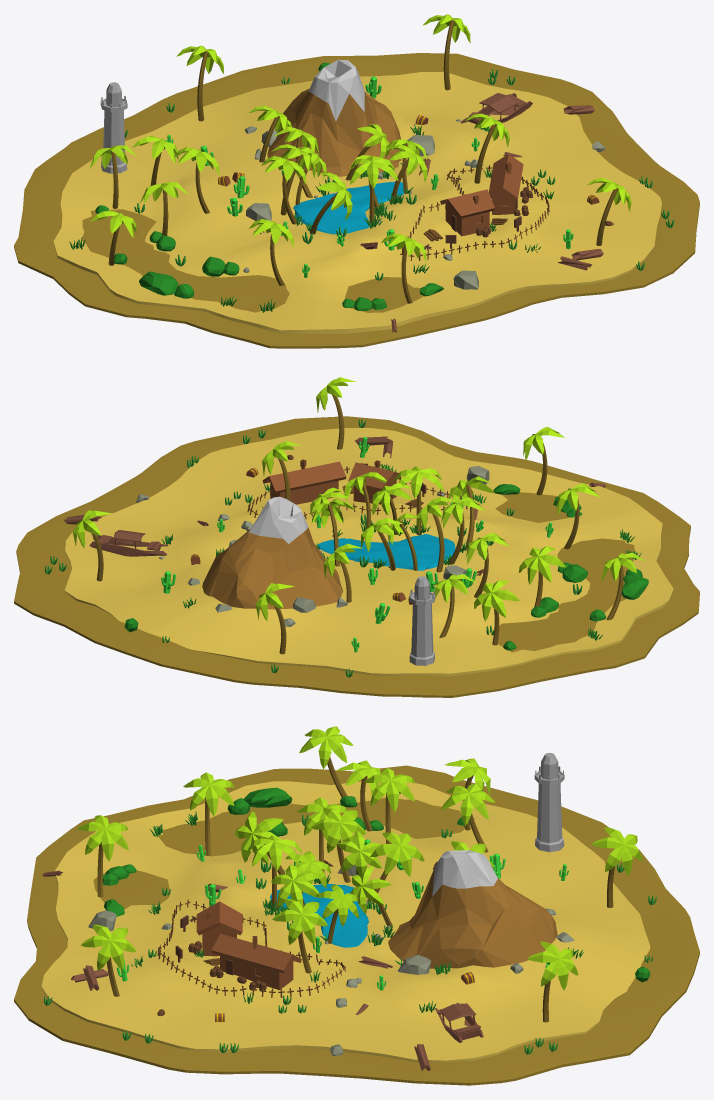
The picture shows the model from 3 angles, top to bottom: view 1: azimuth 30°, elevation 25°; view 2: azimuth 150°, elevation 25°; view 3: azimuth 270°, elevation 25°; orthographic projection. The views are drawn at different scales.
Visible parts, largest first — view 1: Ashamo, Ashamo1, ApCylinder73, ApCube85, ApCube206, ApCube207, ApPlane2, ApCube172, ApSphere5, ApCube210, ApCylinder75, AMASH3_ReproMesh1 (+3 smaller); view 2: Ashamo, Ashamo1, ApCylinder73, ApCube85, ApCube206, ApPlane2, ApCube207, ApCube172, ApCylinder75, AdeletepolySurface3, ApCube209, ApCube210 (+4 smaller); view 3: Ashamo, Ashamo1, ApCylinder73, ApCube85, ApCube206, ApCube207, ApCube172, ApPlane2, ApCube210, ApSphere5, ApCube209, ApCylinder75 (+3 smaller).
Part boxes in pixels (bbox=[...]): Ashamo: bbox=[53, 72, 661, 333]; Ashamo1: bbox=[14, 53, 699, 348]; ApCylinder73: bbox=[89, 14, 631, 303]; ApCube85: bbox=[267, 59, 401, 176]; ApCube206: bbox=[440, 154, 523, 236]; ApCube207: bbox=[95, 62, 443, 310]; ApPlane2: bbox=[293, 181, 404, 234]; ApCube172: bbox=[100, 82, 127, 173]; ApSphere5: bbox=[243, 119, 605, 289]; ApCube210: bbox=[69, 123, 554, 312]; ApCylinder75: bbox=[165, 76, 573, 277]; AMASH3_ReproMesh1: bbox=[400, 165, 549, 260]; Ashamo: bbox=[64, 428, 673, 676]; Ashamo1: bbox=[14, 416, 699, 697]; ApCylinder73: bbox=[72, 377, 645, 654]; ApCube85: bbox=[202, 496, 343, 609]; ApCube206: bbox=[262, 459, 400, 504]; ApPlane2: bbox=[317, 534, 455, 570]; ApCube207: bbox=[124, 484, 648, 650]; ApCube172: bbox=[409, 576, 435, 665]; ApCylinder75: bbox=[161, 437, 553, 652]; AdeletepolySurface3: bbox=[89, 530, 168, 556]; ApCube209: bbox=[45, 419, 582, 677]; ApCube210: bbox=[161, 463, 641, 640]; Ashamo: bbox=[41, 781, 650, 1062]; Ashamo1: bbox=[14, 765, 699, 1085]; ApCylinder73: bbox=[77, 726, 642, 1022]; ApCube85: bbox=[388, 850, 557, 968]; ApCube206: bbox=[196, 901, 301, 990]; ApCube207: bbox=[103, 787, 650, 982]; ApCube172: bbox=[534, 752, 564, 852]; ApPlane2: bbox=[270, 883, 368, 947]; ApCube210: bbox=[131, 791, 583, 1012]; ApSphere5: bbox=[88, 863, 431, 1055]; ApCube209: bbox=[44, 814, 656, 1054]; ApCylinder75: bbox=[117, 839, 568, 990].
Size of what is drawn, in the model's own units: 228 by 48.1 by 208.
